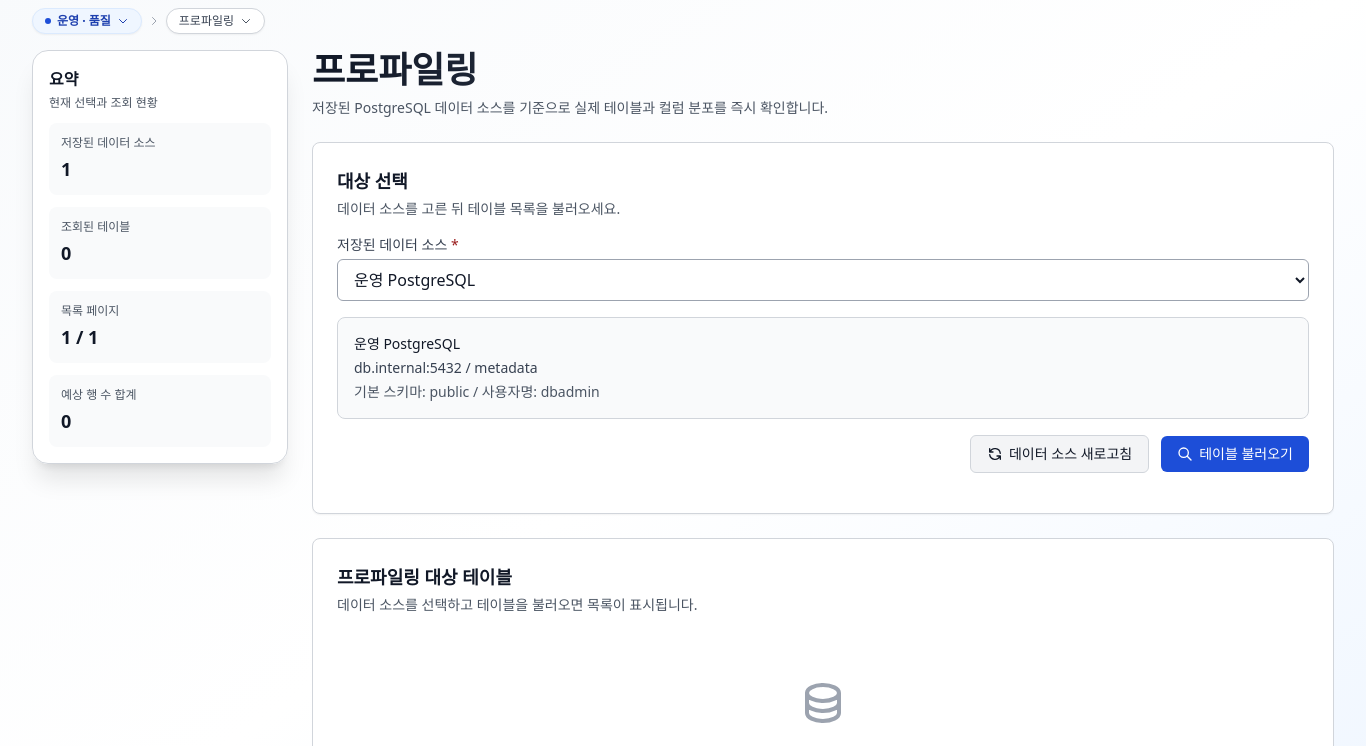
Test: Profiling browse page › should use the shared search control to filter profile targets
Expected: the dropdown labelled "저장된 데이터 소스" is shown, [337,259,1309,301]
Click the button "테이블 불러오기" at (1235, 454), box [1161,436,1309,472]
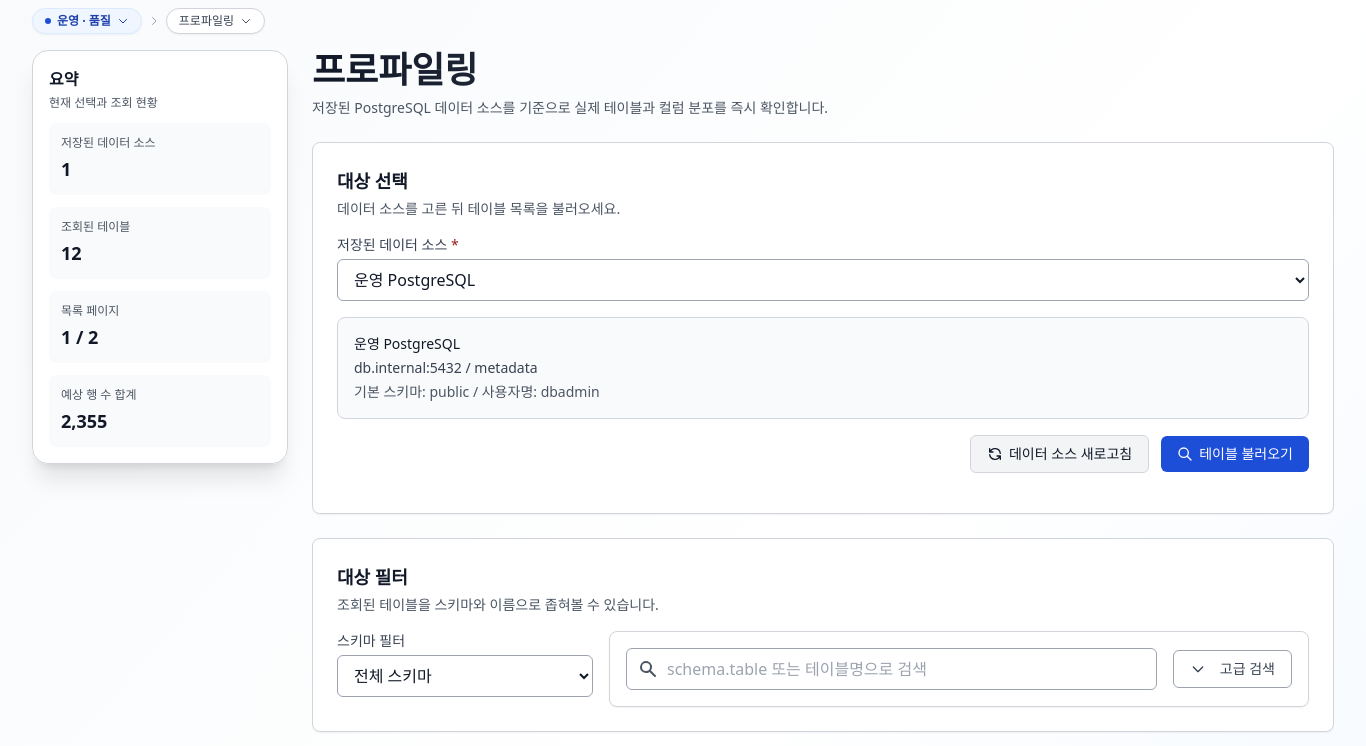
Now the element named "검색 조건" is shown, box [609,631,1309,707]
Type "table_02" into the field with placeholder "schema.table 또는 테이블명으로 검색" at (891, 669), box [626,648,1157,690]
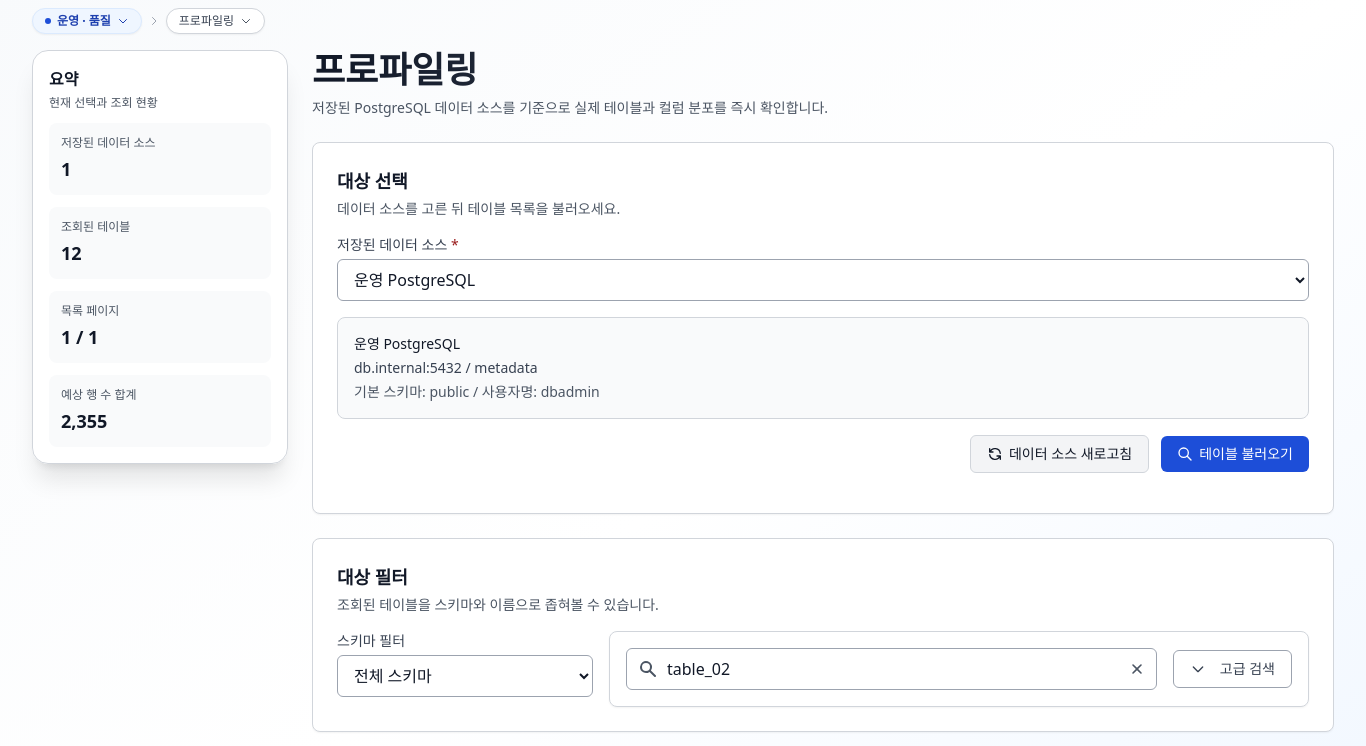
Click the button "고급 검색" at (1232, 669), box [1173,650,1292,688]
(page scrolled)
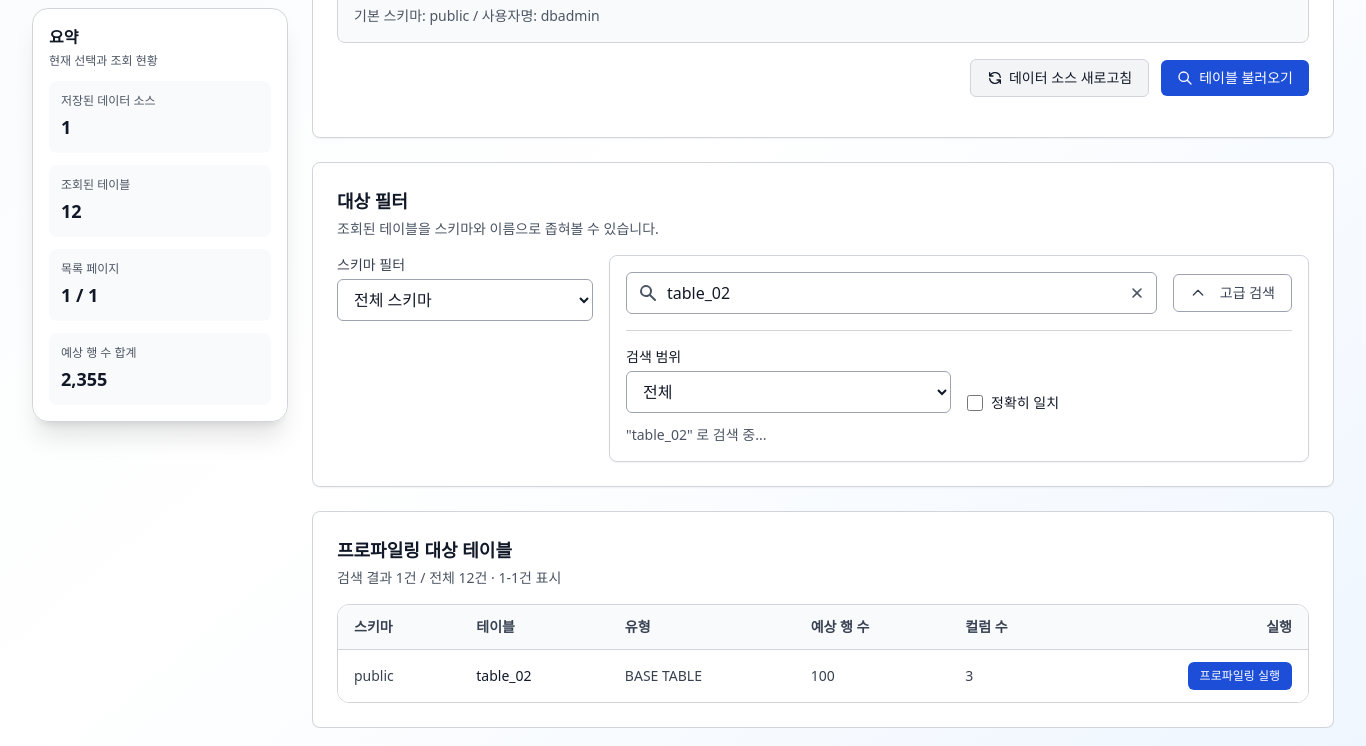
Now the button "고급 검색" is expanded, box [1173,274,1292,312]
Now the dropdown labelled "검색 범위" is shown, box [626,371,951,413]
